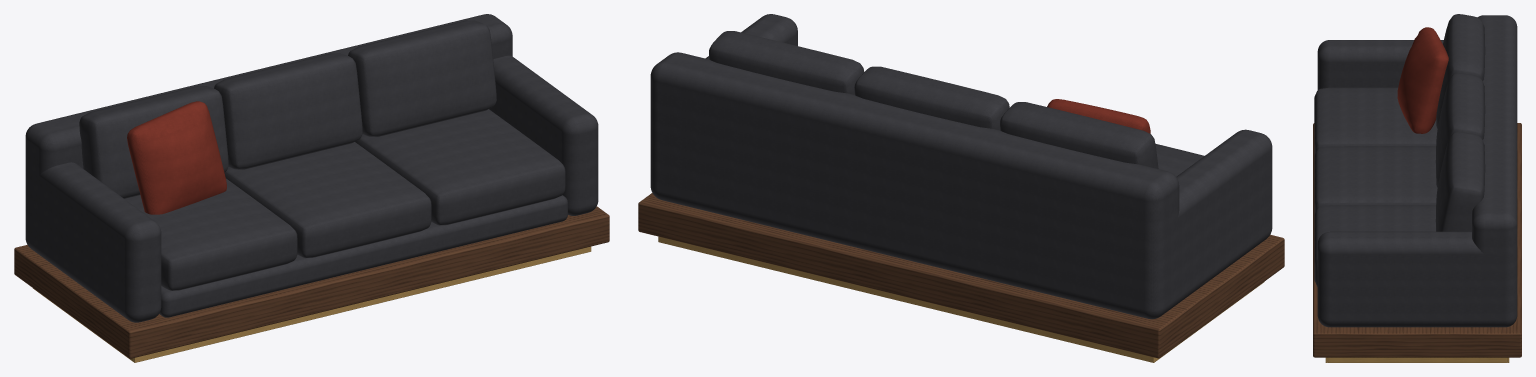
Rendered from lounge_sofa.glb.
3 renders of one model, left to right at view 1: azimuth 30°, elevation 25°; view 2: azimuth 150°, elevation 25°; view 3: azimuth 270°, elevation 25°, orthographic. The views are drawn at different scales.
Parts seen in each view (by area): view 1: base_wood_walnut_0, body_fabric_charcoal_1, seat_r_fabric_charcoal_0, seat_c_fabric_charcoal_0, back_r_fabric_charcoal_0, back_c_fabric_charcoal_0, seat_l_fabric_charcoal_0, body_fabric_charcoal_0, body_fabric_charcoal_2, pillow_fabric_cinnabar_0, back_l_fabric_charcoal_0, body_fabric_charcoal_3 (+1 smaller); view 2: body_fabric_charcoal_3, base_wood_walnut_0, body_fabric_charcoal_1, back_l_fabric_charcoal_0, back_c_fabric_charcoal_0, back_r_fabric_charcoal_0, kick_brass_1, body_fabric_charcoal_2, pillow_fabric_cinnabar_0, seat_l_fabric_charcoal_0; view 3: body_fabric_charcoal_2, body_fabric_charcoal_3, base_wood_walnut_0, seat_c_fabric_charcoal_0, seat_l_fabric_charcoal_0, body_fabric_charcoal_1, back_r_fabric_charcoal_0, pillow_fabric_cinnabar_0, seat_r_fabric_charcoal_0, back_c_fabric_charcoal_0, back_l_fabric_charcoal_0, kick_brass_2.
Boxes of the visible parts, x1=… form: base_wood_walnut_0: x1=14, y1=206, x2=609, y2=358; body_fabric_charcoal_1: x1=25, y1=162, x2=161, y2=322; seat_r_fabric_charcoal_0: x1=355, y1=109, x2=565, y2=225; seat_c_fabric_charcoal_0: x1=224, y1=142, x2=431, y2=258; back_r_fabric_charcoal_0: x1=348, y1=20, x2=496, y2=136; back_c_fabric_charcoal_0: x1=214, y1=53, x2=362, y2=169; seat_l_fabric_charcoal_0: x1=125, y1=178, x2=297, y2=290; body_fabric_charcoal_0: x1=159, y1=195, x2=567, y2=317; body_fabric_charcoal_2: x1=489, y1=55, x2=598, y2=215; pillow_fabric_cinnabar_0: x1=127, y1=101, x2=226, y2=214; back_l_fabric_charcoal_0: x1=79, y1=86, x2=228, y2=198; body_fabric_charcoal_3: x1=25, y1=14, x2=512, y2=255; body_fabric_charcoal_3: x1=650, y1=52, x2=1179, y2=318; base_wood_walnut_0: x1=638, y1=193, x2=1284, y2=358; body_fabric_charcoal_1: x1=1132, y1=129, x2=1272, y2=319; back_l_fabric_charcoal_0: x1=1000, y1=102, x2=1158, y2=168; back_c_fabric_charcoal_0: x1=854, y1=66, x2=1009, y2=130; back_r_fabric_charcoal_0: x1=709, y1=31, x2=864, y2=94; kick_brass_1: x1=658, y1=236, x2=1154, y2=362; body_fabric_charcoal_2: x1=650, y1=14, x2=797, y2=202; pillow_fabric_cinnabar_0: x1=1047, y1=99, x2=1150, y2=133; seat_l_fabric_charcoal_0: x1=1155, y1=143, x2=1204, y2=176; body_fabric_charcoal_2: x1=1317, y1=231, x2=1517, y2=327; body_fabric_charcoal_3: x1=1472, y1=15, x2=1517, y2=327; base_wood_walnut_0: x1=1313, y1=123, x2=1521, y2=357; seat_c_fabric_charcoal_0: x1=1314, y1=146, x2=1437, y2=214; seat_l_fabric_charcoal_0: x1=1314, y1=87, x2=1437, y2=155; body_fabric_charcoal_1: x1=1317, y1=40, x2=1443, y2=89; back_r_fabric_charcoal_0: x1=1435, y1=131, x2=1485, y2=231; pillow_fabric_cinnabar_0: x1=1397, y1=27, x2=1448, y2=133; seat_r_fabric_charcoal_0: x1=1314, y1=205, x2=1435, y2=286; back_c_fabric_charcoal_0: x1=1435, y1=73, x2=1485, y2=187; back_l_fabric_charcoal_0: x1=1436, y1=14, x2=1485, y2=128; kick_brass_2: x1=1327, y1=357, x2=1507, y2=362.
Size of what is drawn, in the model's own units: 2.2 by 0.8034 by 0.92.
7 materials, 7 textured.
